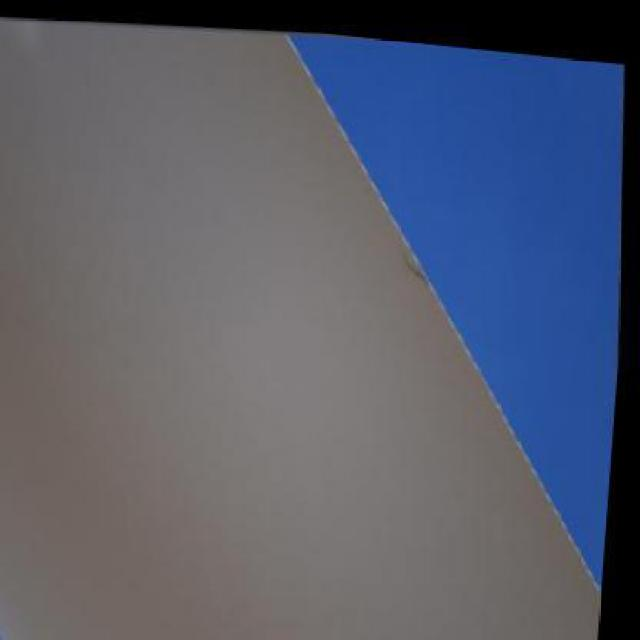Crack: (400, 232, 438, 292)
